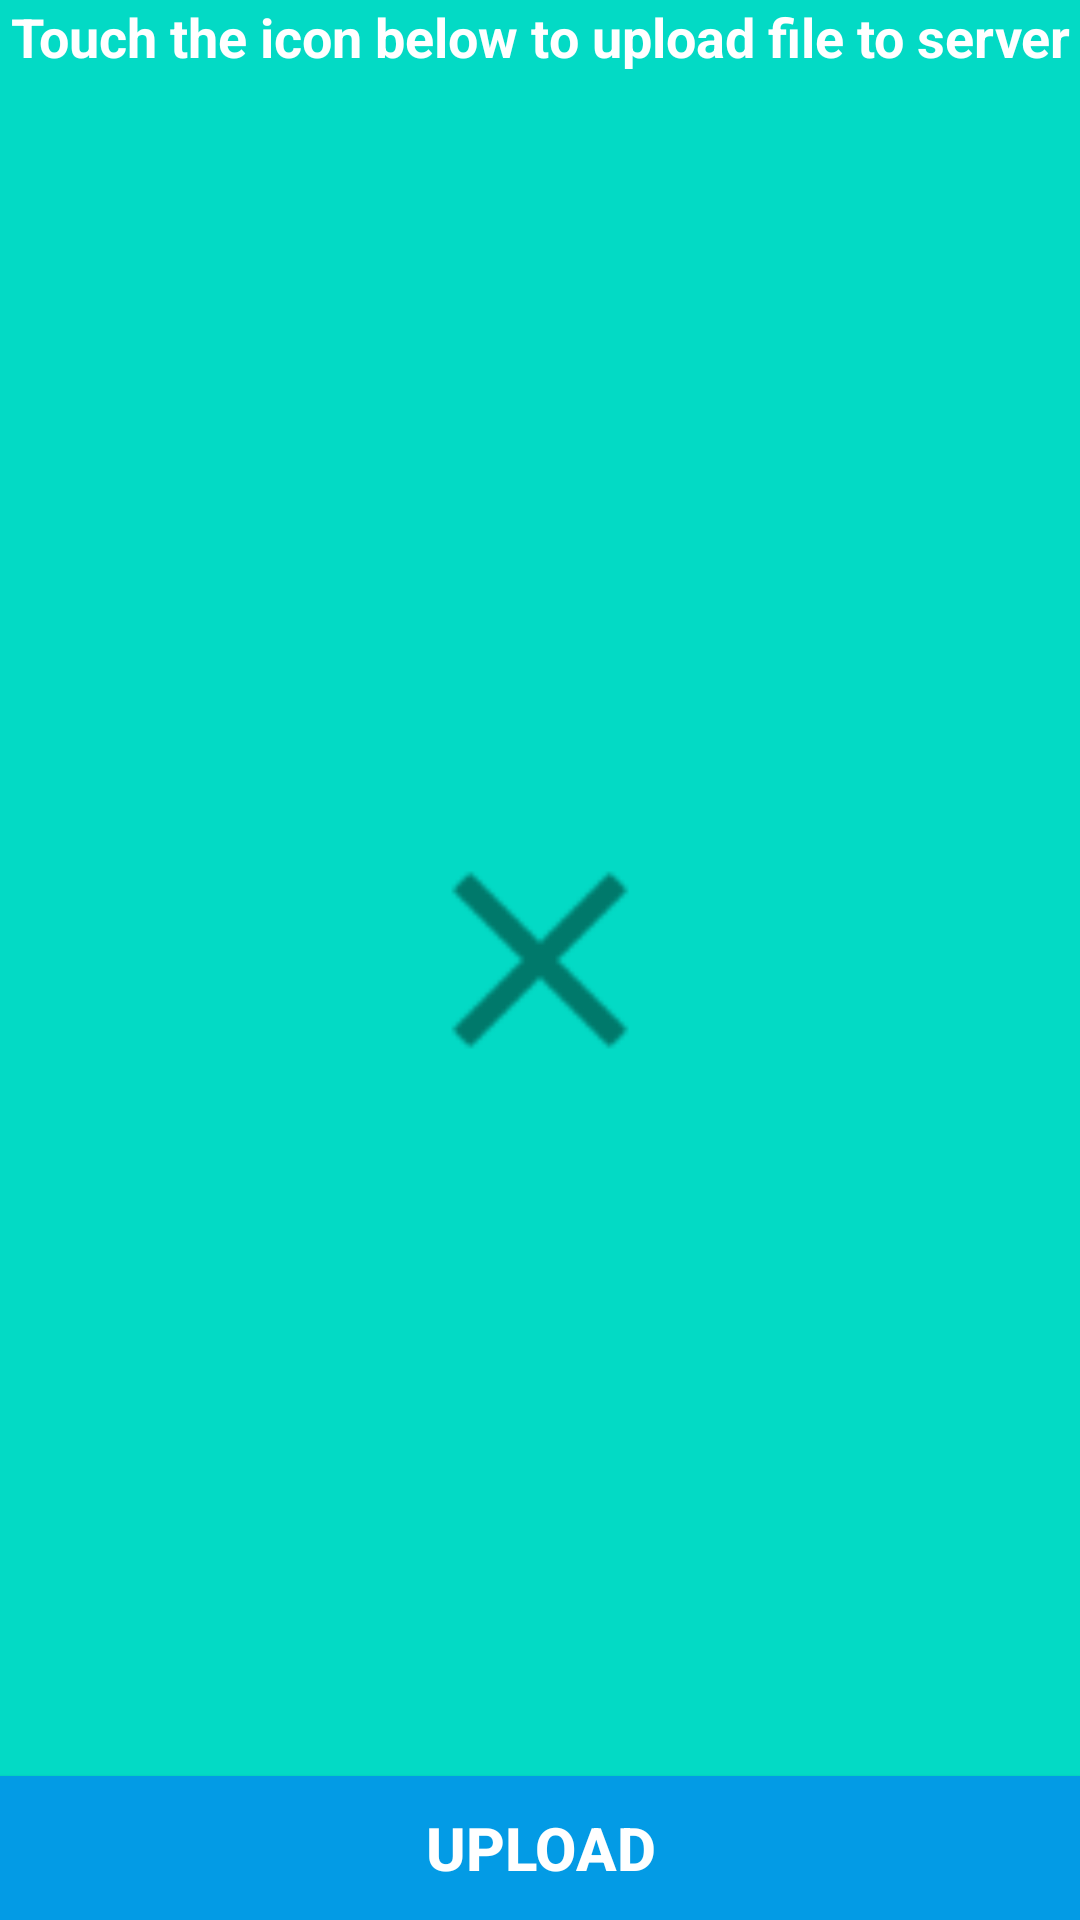

Named icons in this screenshot (1080px x 1920px) and their centers, (x=x, y=y):
close: (x=540, y=960)
